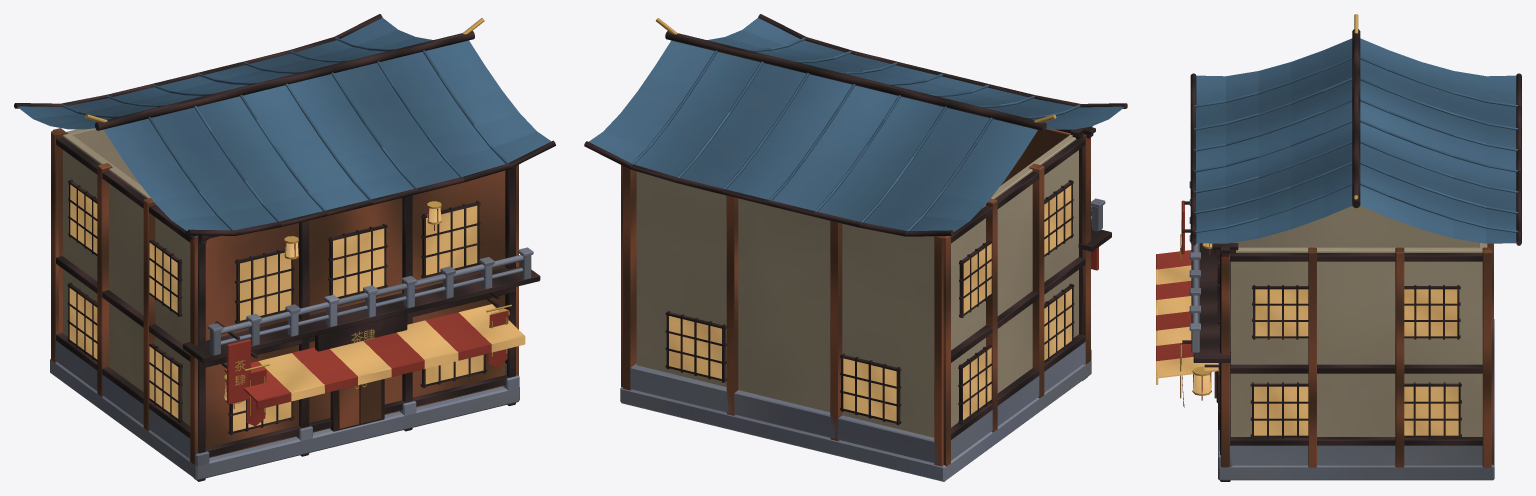
File: model-shop-02.glb
The picture shows the model from 3 angles, left to right: view 1: azimuth 30°, elevation 25°; view 2: azimuth 150°, elevation 25°; view 3: azimuth 270°, elevation 25°; orthographic projection. The views are drawn at different scales.
Visible parts, largest first — view 1: model-shop-02; view 2: model-shop-02; view 3: model-shop-02.
Part boxes in pixels (box(x1,y1,x2,y2)): model-shop-02: box(14, 14, 555, 481); model-shop-02: box(584, 14, 1127, 481); model-shop-02: box(1156, 14, 1521, 481).
Bounding box in the file's own units: 11.55 × 8.99 × 9.78.
9 materials, 9 textured.
